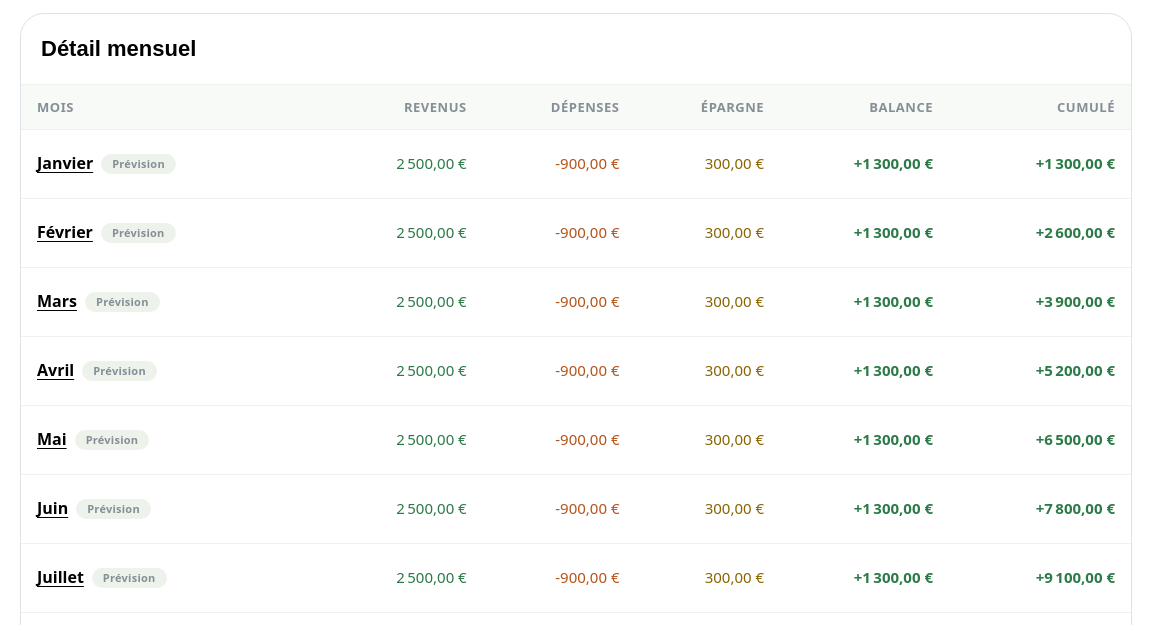
Scenario: SummaryPage month breakdown › shows a loader then an error when the breakdown fails
(page scrolled)
Click the button with aria-label "Détail de mars 2027" at (57, 302), box [37, 280, 77, 324]
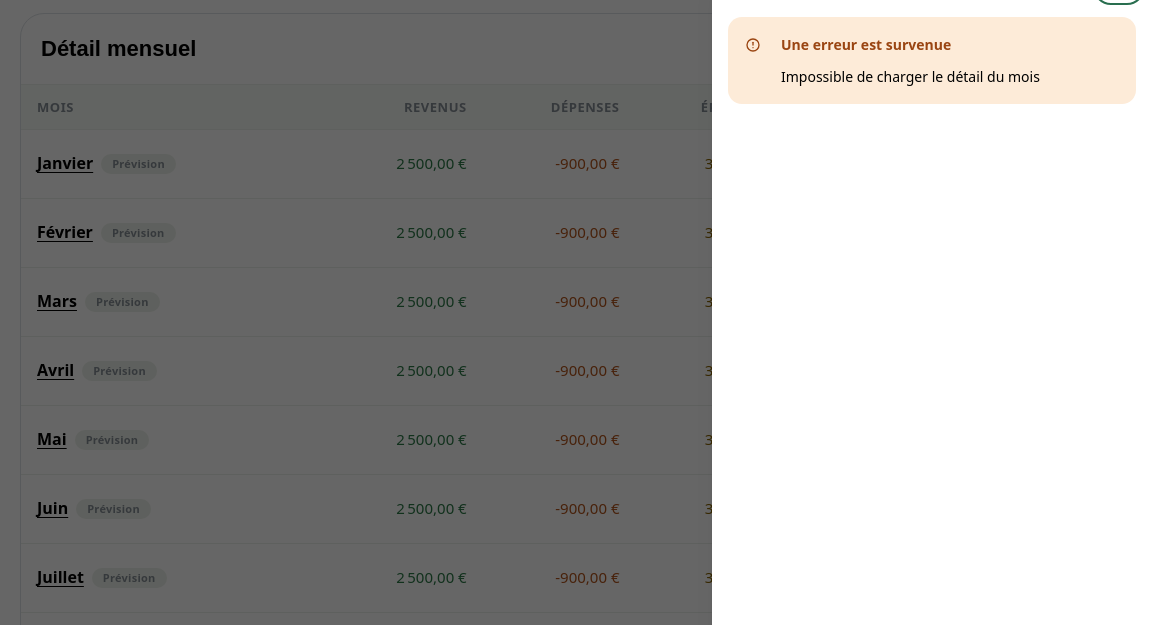
Result: the text "Impossible de charger le détail du mois" is shown at [781, 67, 1040, 86]
